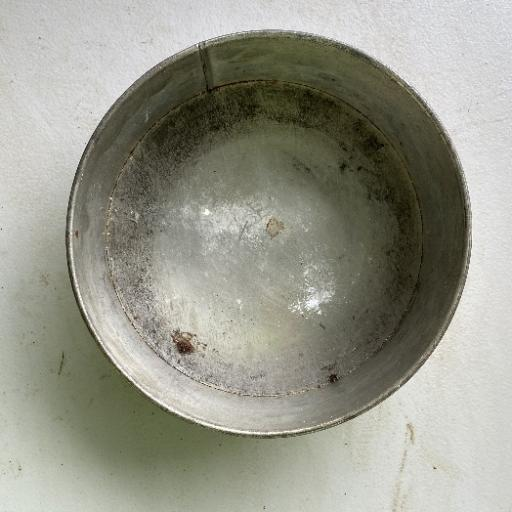Metal: (62, 28, 473, 438)
